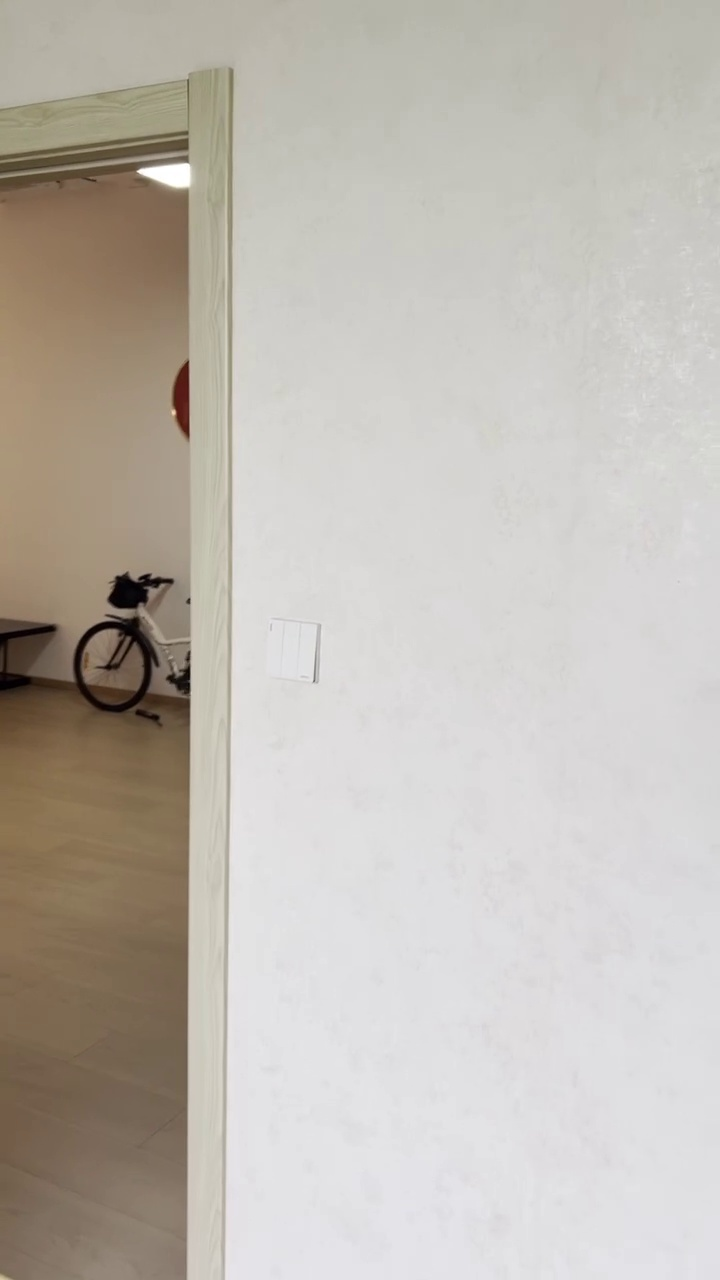button: (263, 616, 321, 685)
